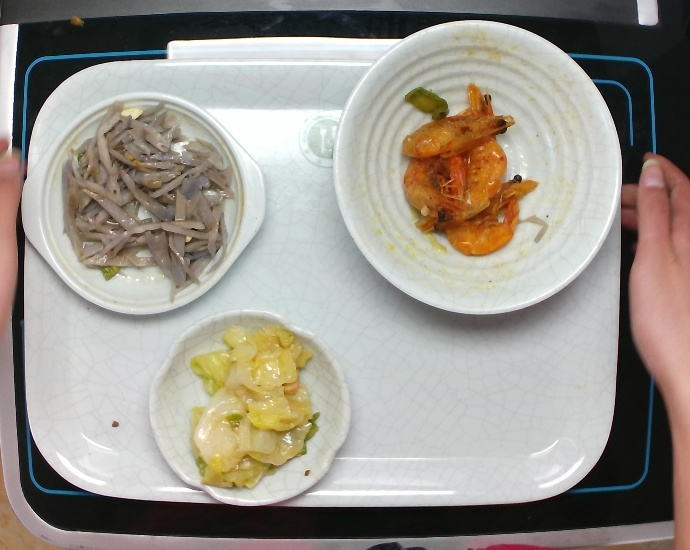JYsf-Ao_Yuan_Wan: (145, 308, 352, 509)
JYsf-Shuang_Er_Pan: (19, 89, 269, 319)
JYsf-Xiao_Tang_Wan: (329, 19, 622, 319)
